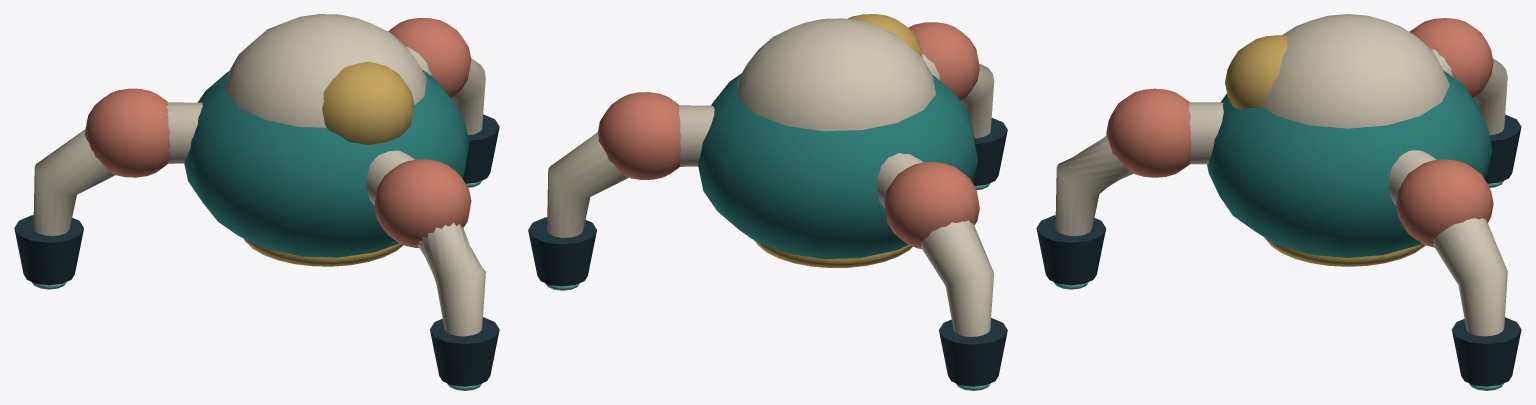
File: alien-harvester-lod1.glb
3 renders of one model, left to right at view 1: azimuth 30°, elevation 25°; view 2: azimuth 150°, elevation 25°; view 3: azimuth 270°, elevation 25°, orthographic.
Parts seen in each view (by area): view 1: shell, emission; view 2: shell, emission; view 3: shell, emission.
Boxes of the visible parts, left/top/right/bottom form: shell: left=14, top=14, right=499, bottom=386; emission: left=32, top=61, right=482, bottom=390; shell: left=528, top=18, right=1007, bottom=386; emission: left=545, top=14, right=990, bottom=390; shell: left=1036, top=14, right=1521, bottom=386; emission: left=1054, top=35, right=1503, bottom=390.
Size of the model in its own units: 2.36 by 1.24 by 2.09.
